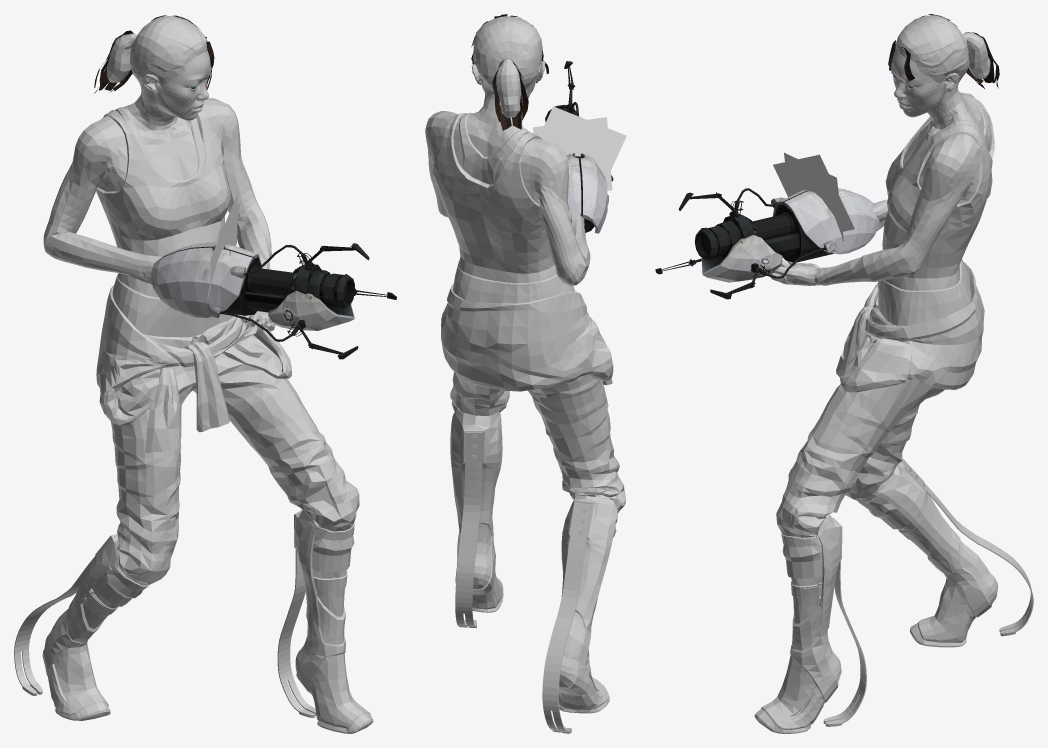
Rendered from Chell.obj.
3 views of the same model, side by side, from view 1: azimuth 30°, elevation 25°; view 2: azimuth 150°, elevation 25°; view 3: azimuth 270°, elevation 25° (orthographic). The views are drawn at different scales.
Visible parts, largest first — view 1: DrawCall_0122, DrawCall_0120, DrawCall_0123, DrawCall_0117, DrawCall_0121, DrawCall_0190; view 2: DrawCall_0120, DrawCall_0122, DrawCall_0117, DrawCall_0121, DrawCall_0123, DrawCall_0189, DrawCall_0188, DrawCall_0190; view 3: DrawCall_0122, DrawCall_0120, DrawCall_0123, DrawCall_0117, DrawCall_0188, DrawCall_0189, DrawCall_0190.
Boxes of the visible parts, x1,y1,x2,y2 form: DrawCall_0122: [14, 342, 373, 733]; DrawCall_0120: [75, 98, 291, 424]; DrawCall_0123: [151, 242, 396, 359]; DrawCall_0117: [107, 16, 211, 180]; DrawCall_0121: [43, 117, 168, 425]; DrawCall_0190: [94, 15, 214, 93]; DrawCall_0120: [425, 111, 613, 391]; DrawCall_0122: [450, 372, 625, 733]; DrawCall_0117: [466, 16, 545, 156]; DrawCall_0121: [519, 151, 612, 381]; DrawCall_0123: [545, 61, 613, 233]; DrawCall_0189: [544, 106, 626, 179]; DrawCall_0188: [533, 117, 612, 190]; DrawCall_0190: [471, 14, 548, 130]; DrawCall_0122: [754, 305, 1033, 733]; DrawCall_0120: [770, 92, 994, 392]; DrawCall_0123: [655, 188, 879, 299]; DrawCall_0117: [890, 15, 990, 167]; DrawCall_0188: [784, 152, 843, 241]; DrawCall_0189: [773, 154, 854, 231]; DrawCall_0190: [888, 14, 999, 89].
Bounding box in the file's own units: 6.02 × 17.06 × 8.84.
